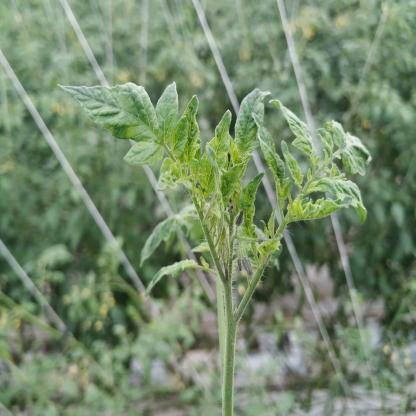T_L_H: (63, 83, 179, 167), (236, 90, 271, 157)
T_L_R: (200, 112, 233, 199), (240, 173, 264, 238), (183, 96, 202, 167), (282, 142, 304, 191), (222, 165, 243, 208), (172, 117, 190, 157)
